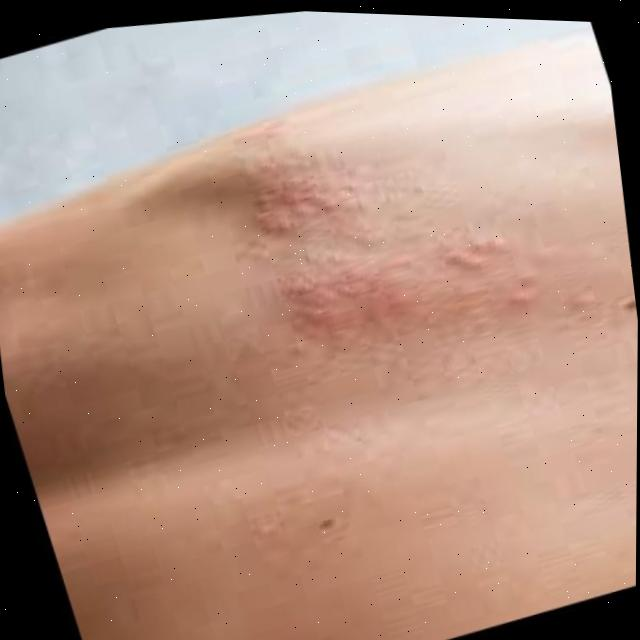Eczema: (265, 130, 529, 383)
